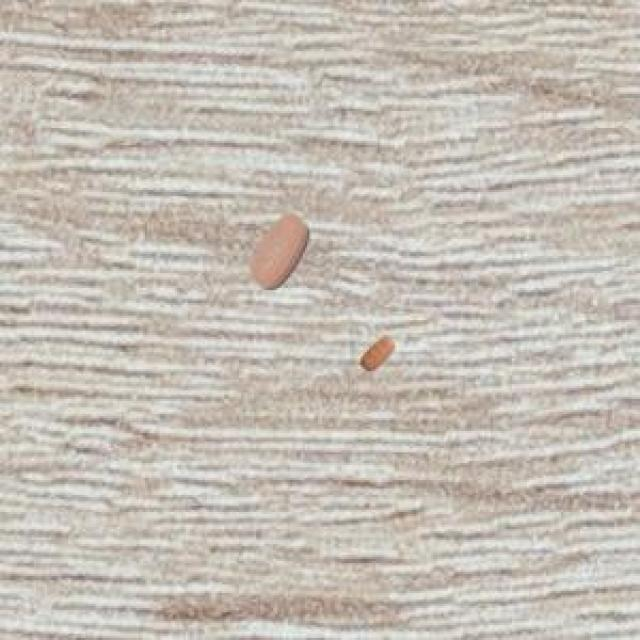Biogesic: (243, 204, 315, 297), (351, 322, 409, 395)
